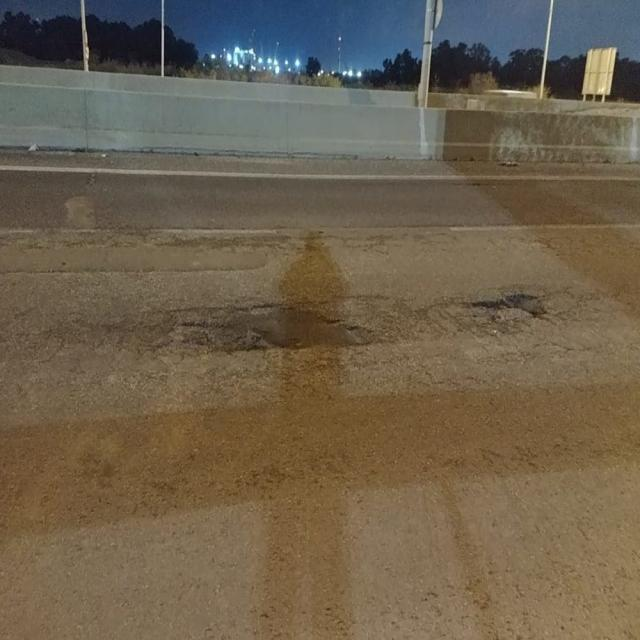medium_pothole: (160, 304, 374, 351), (466, 283, 545, 323)
